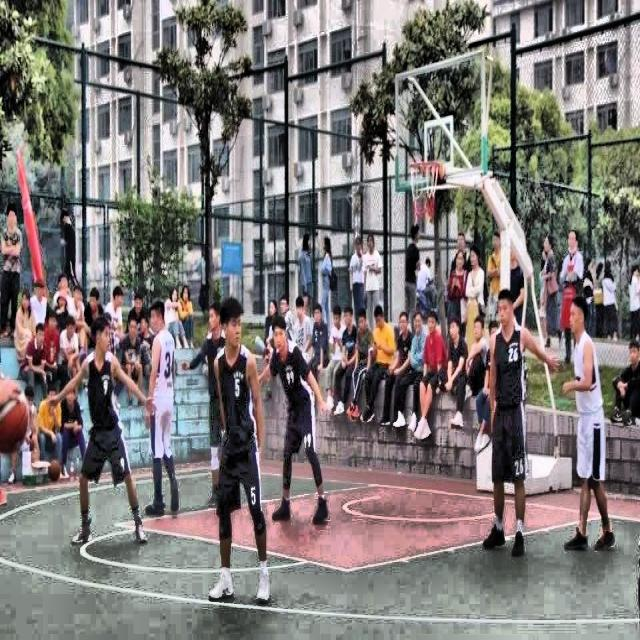rim: (408, 162, 440, 221)
